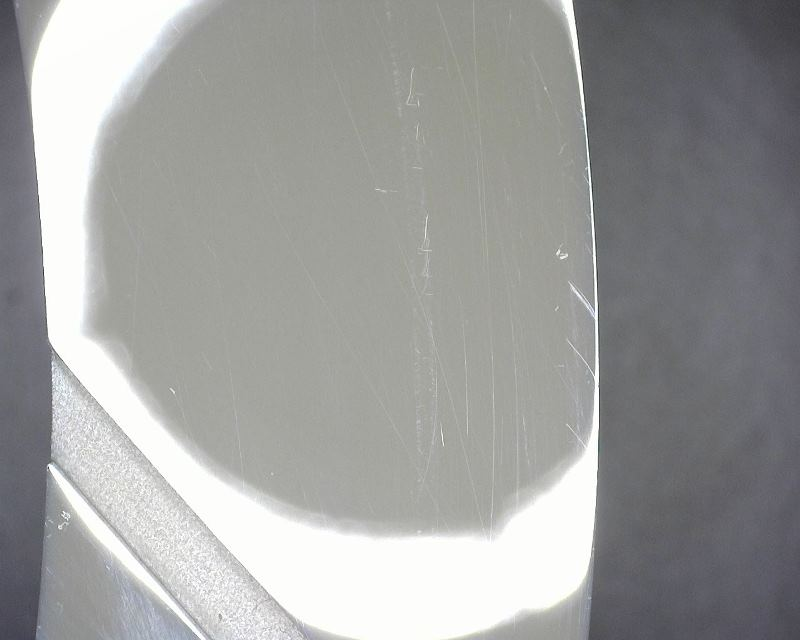scratch: (408, 65, 428, 173), (563, 333, 597, 384), (566, 278, 596, 317), (422, 215, 434, 299), (563, 421, 588, 450), (51, 510, 72, 532), (438, 422, 449, 450), (555, 245, 570, 262), (375, 185, 391, 200), (171, 384, 180, 397)
